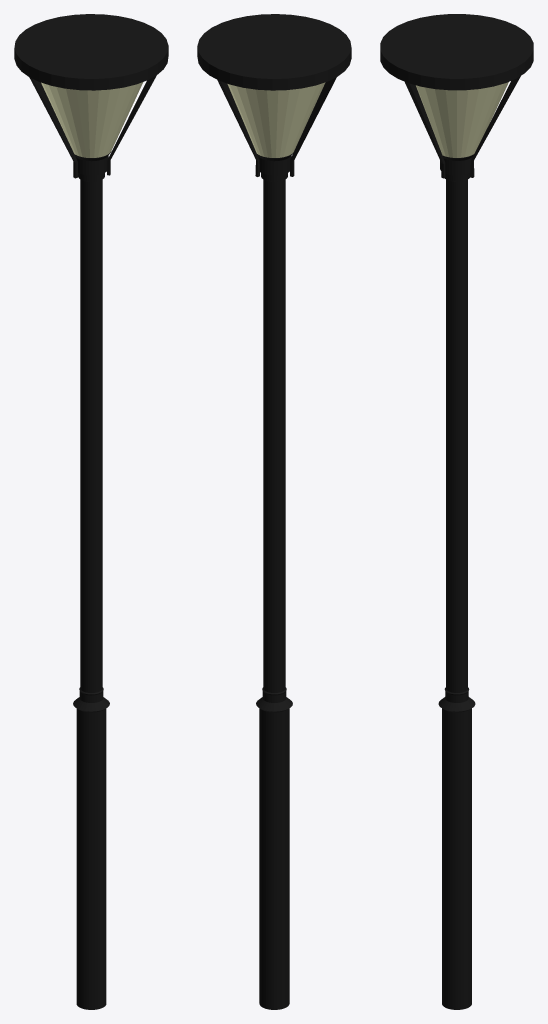
File: lamp3.gltf
3 views of the same model, side by side, from view 1: azimuth 30°, elevation 25°; view 2: azimuth 150°, elevation 25°; view 3: azimuth 270°, elevation 25° (orthographic).
Parts seen in each view (by area): view 1: 柱体, 柱体.001; view 2: 柱体, 柱体.001; view 3: 柱体, 柱体.001.
Part boxes in pixels (box(x1,y1,x2,y2)): 柱体: box(14, 14, 168, 1009); 柱体.001: box(41, 82, 143, 157); 柱体: box(197, 14, 351, 1009); 柱体.001: box(227, 82, 325, 157); 柱体: box(380, 14, 533, 1009); 柱体.001: box(416, 82, 508, 157).
Size of the model in its own units: 0.7907 by 5.44 by 0.7907.
